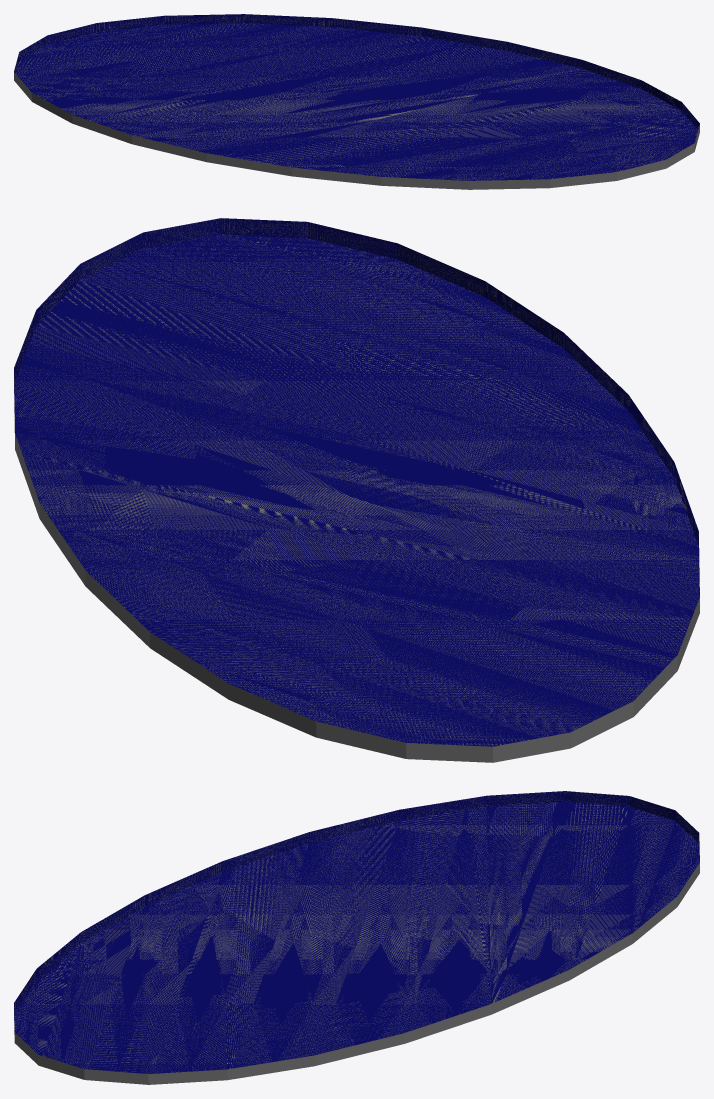
Rendered from original-15.obj.
The picture shows the model from 3 angles, top to bottom: view 1: azimuth 30°, elevation 25°; view 2: azimuth 150°, elevation 25°; view 3: azimuth 270°, elevation 25°; orthographic projection. The views are drawn at different scales.
Parts seen in each view (by area): view 1: #ID100; view 2: #ID100; view 3: #ID100.
Boxes of the visible parts, box(x1,y1,x2,y2) form: #ID100: box(14, 14, 699, 189); #ID100: box(14, 218, 699, 762); #ID100: box(14, 791, 699, 1084).
Size of the model in its own units: 0.1592 by 0.00284 by 0.163.
